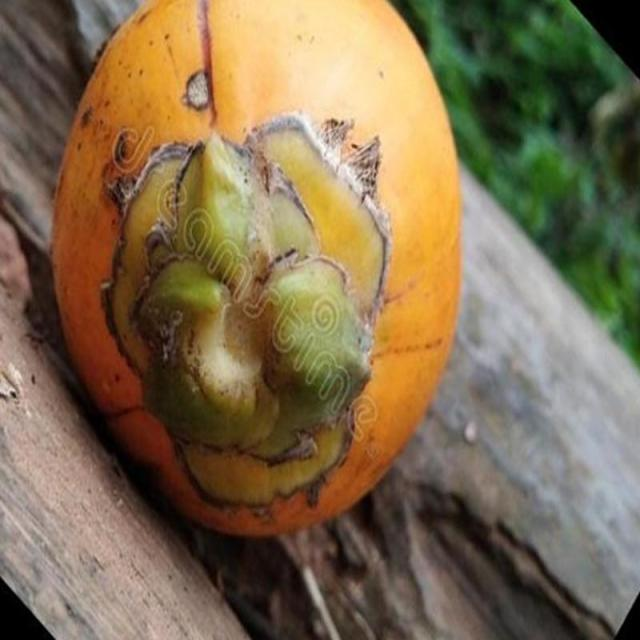good: (50, 0, 467, 543)
